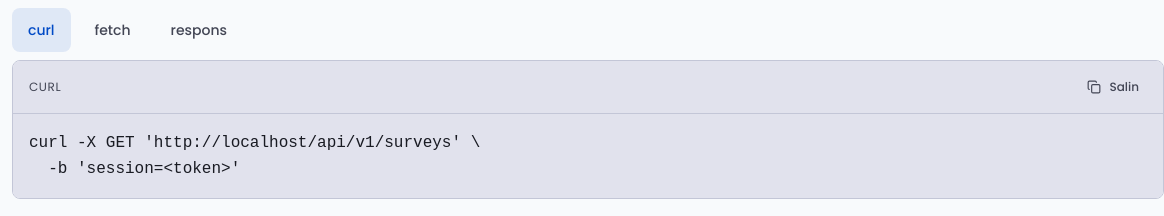
Test: TabSnippet › menandai berhasil saat jalur cadangan berhasil
Click the button with aria-label "salin snippet curl": (1113, 87) [1080, 65, 1147, 109]
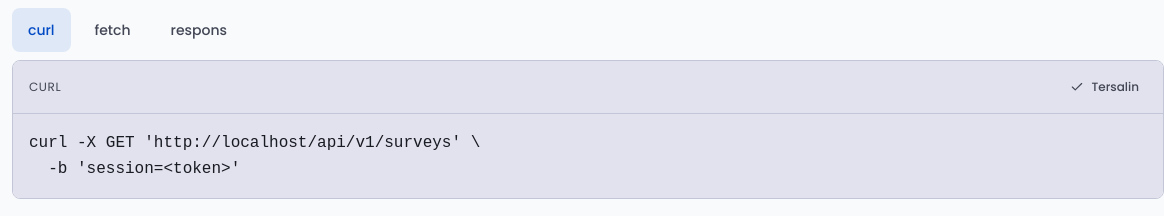
Now the button "Tersalin" is shown, box [1062, 65, 1147, 109]
